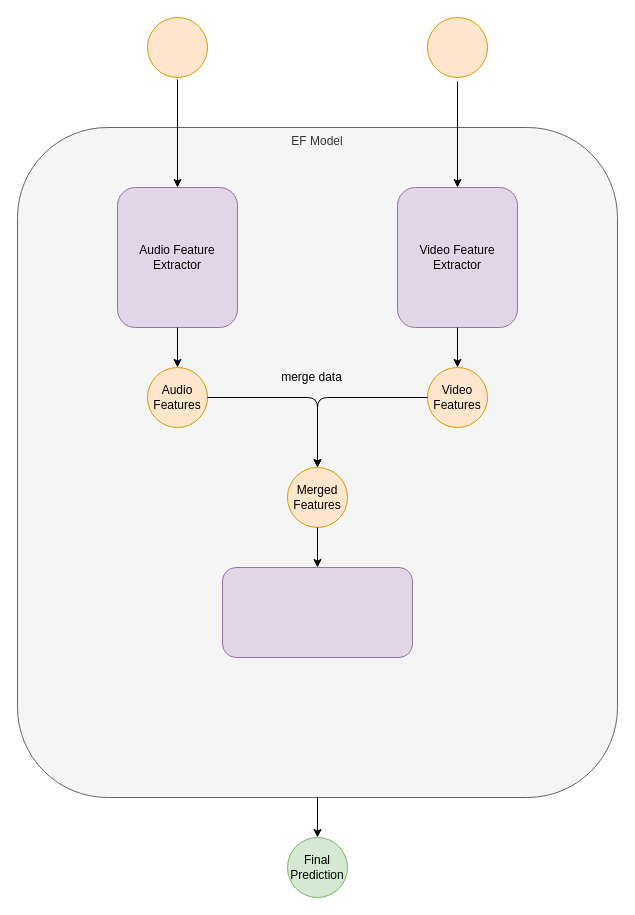
Image size: 635x915. Some labels were removed from this diagram. Each missing label, with the box of its shape:
Audio Data: (146, 16, 208, 78)
Merged Classifier: (222, 566, 412, 658)
Video Data: (426, 16, 488, 78)
